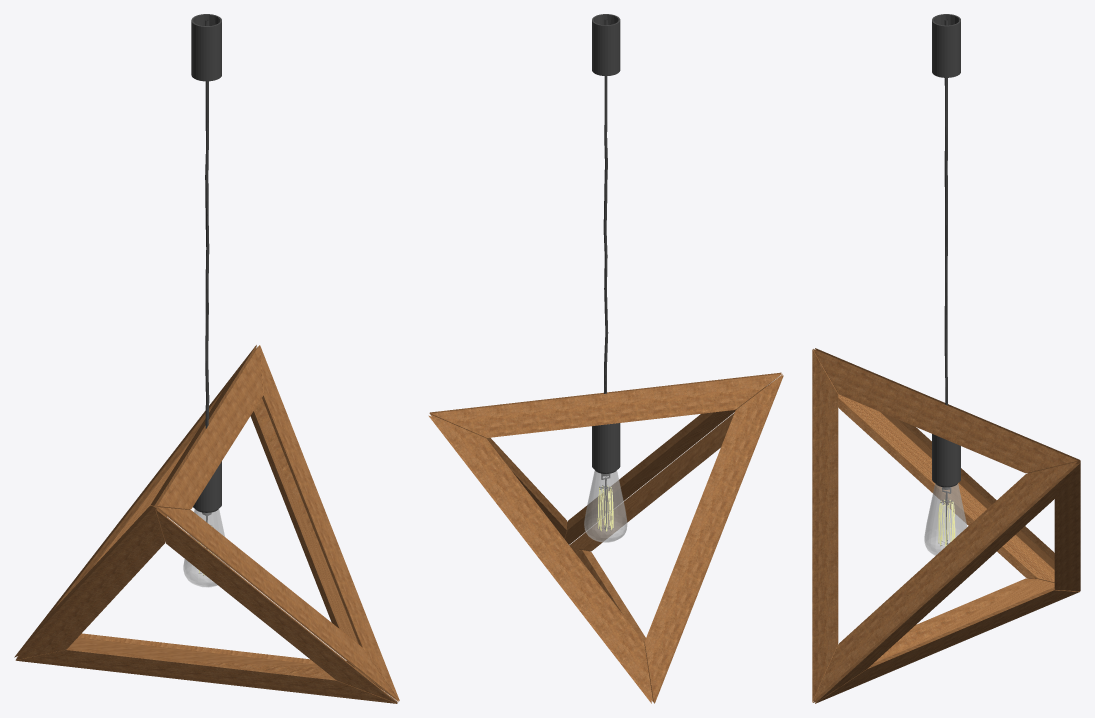
The model's file is Pendant_A.glb.
3 renders of one model, left to right at view 1: azimuth 30°, elevation 25°; view 2: azimuth 150°, elevation 25°; view 3: azimuth 270°, elevation 25°, orthographic. The views are drawn at different scales.
Visible parts, largest first — view 1: Pendant_A; view 2: Pendant_A; view 3: Pendant_A.
Boxes of the visible parts, box(x1,y1,x2,y2) form: Pendant_A: box(14, 14, 399, 703); Pendant_A: box(428, 14, 783, 703); Pendant_A: box(812, 14, 1080, 703).
Size of the model in its own units: 0.3445 by 0.8886 by 0.3445.
4 materials, 1 textured.
